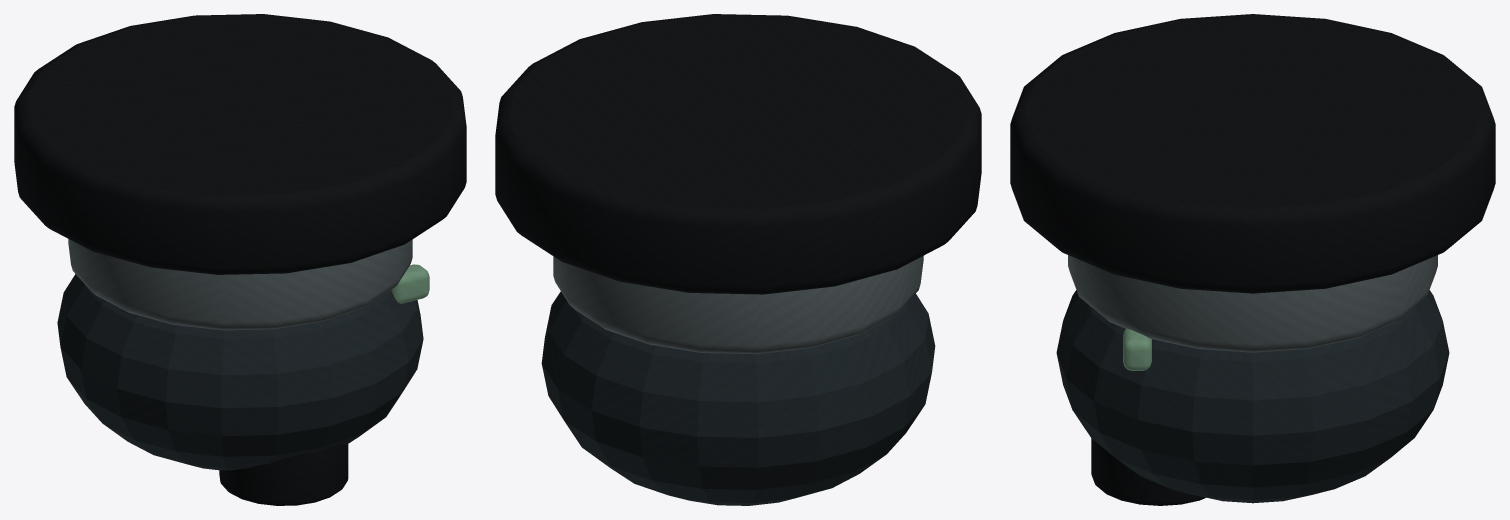
The model's file is CeilingDomeCamera.glb.
3 views of the same model, side by side, from view 1: azimuth 30°, elevation 25°; view 2: azimuth 150°, elevation 25°; view 3: azimuth 270°, elevation 25° (orthographic). The views are drawn at different scales.
Visible parts, largest first — view 1: CeilingDomeCamera_Mesh; view 2: CeilingDomeCamera_Mesh; view 3: CeilingDomeCamera_Mesh.
Part boxes in pixels (x1,y1,x2,y2): CeilingDomeCamera_Mesh: [14, 14, 466, 505]; CeilingDomeCamera_Mesh: [495, 14, 981, 505]; CeilingDomeCamera_Mesh: [1010, 14, 1495, 505].
Bounding box in the file's own units: 0.42 × 0.35 × 0.42.
Materials: 5 (5 with a texture image).
